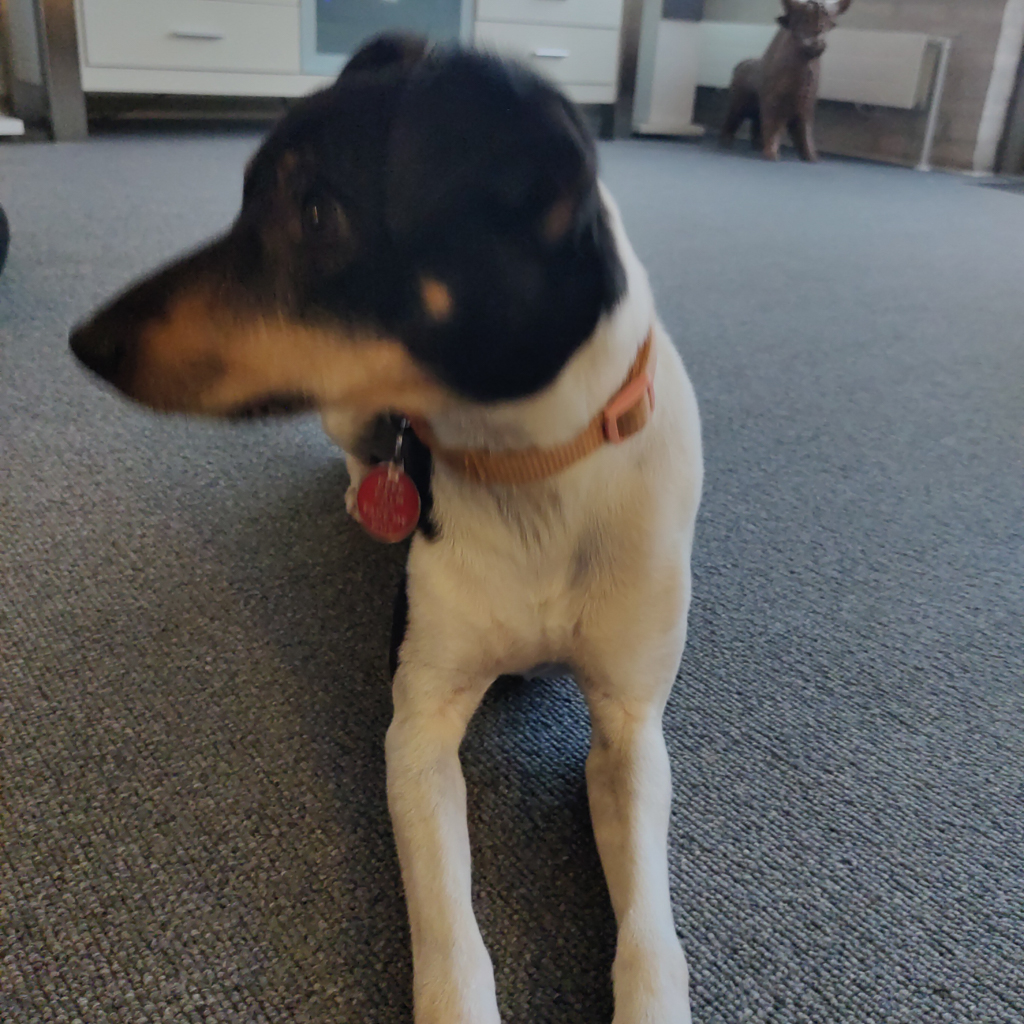Cattle: (711, 0, 861, 175)
Dog: (54, 23, 738, 1024)
